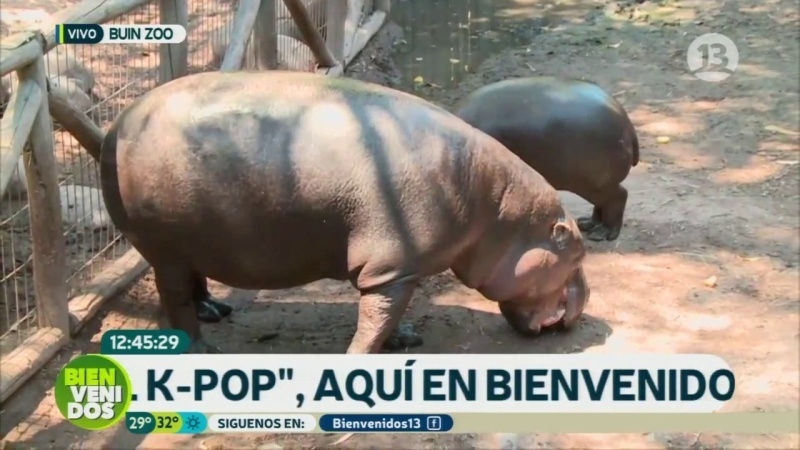hipopotamo: (88, 60, 613, 350), (445, 68, 657, 252)
